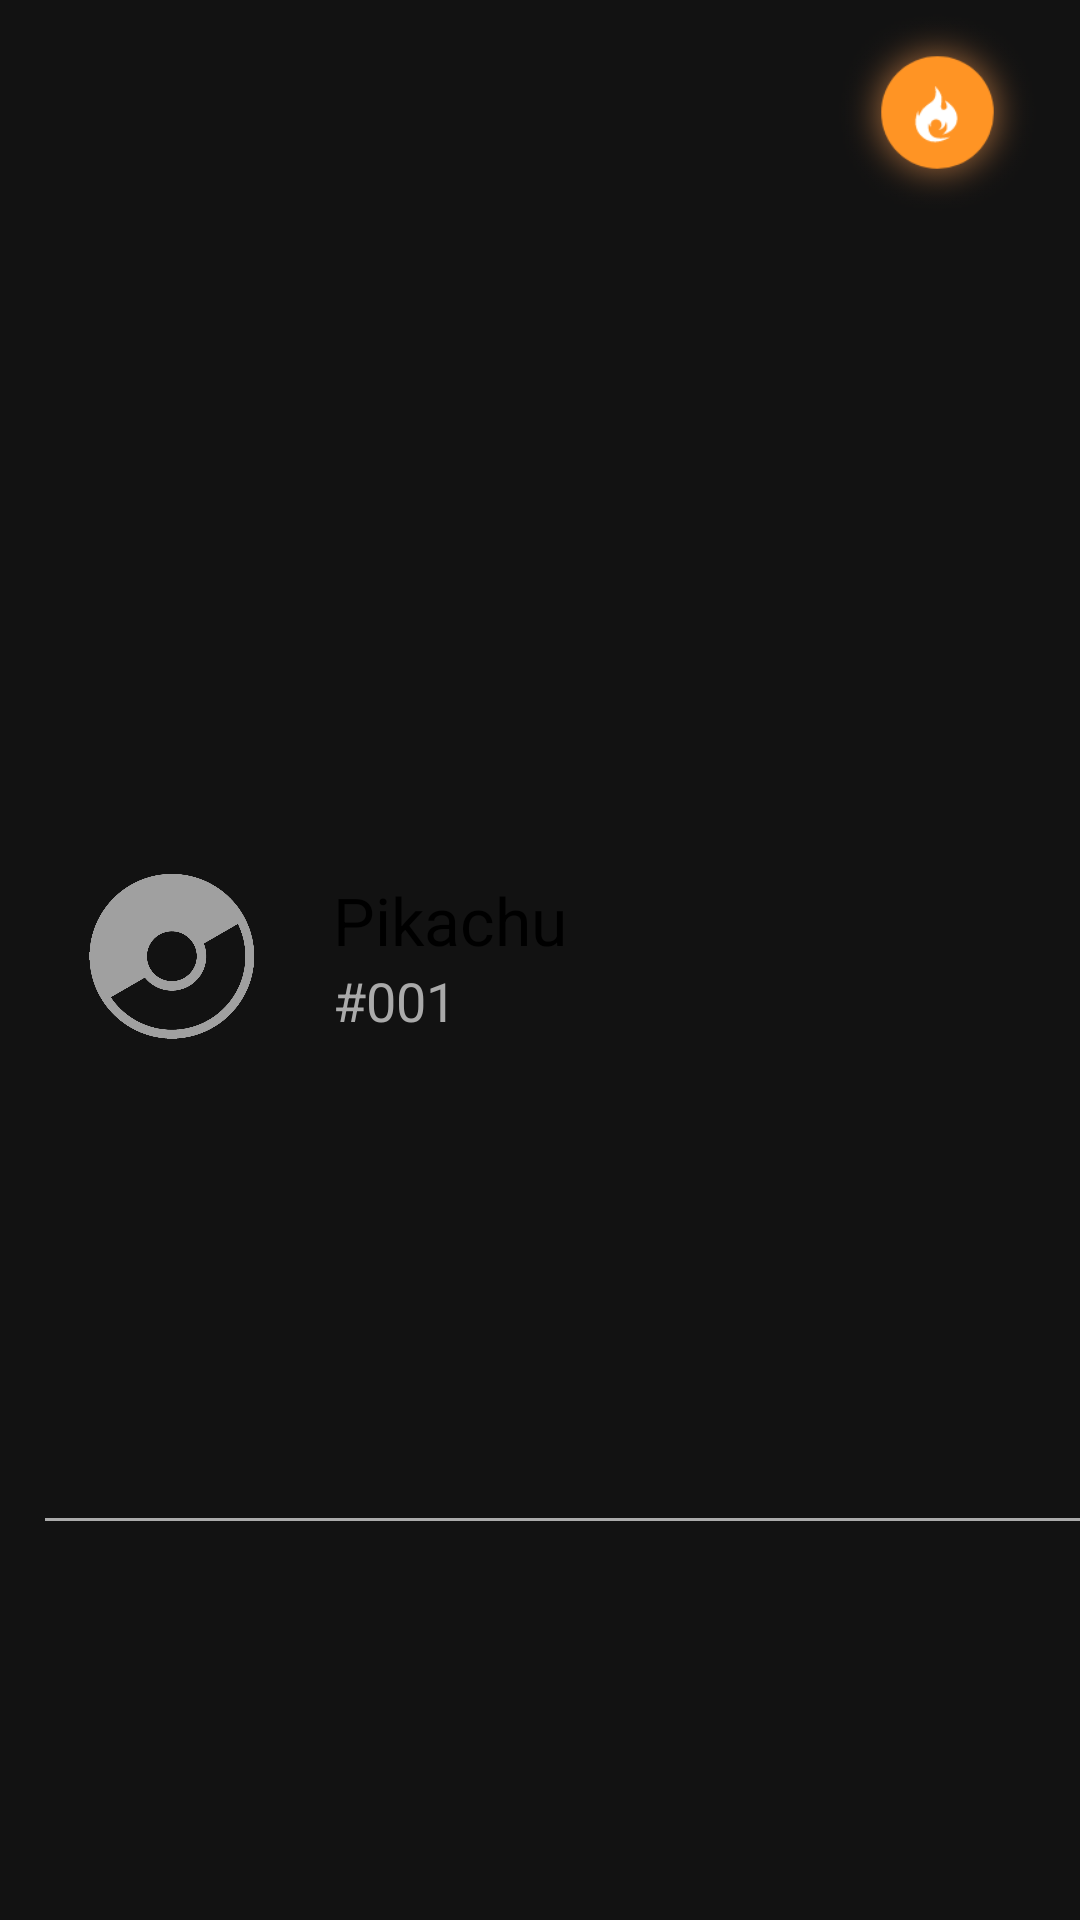

Icon click points for this 1080*1920 phone screenshot, format [x,y]:
Atributo: [937,112]
